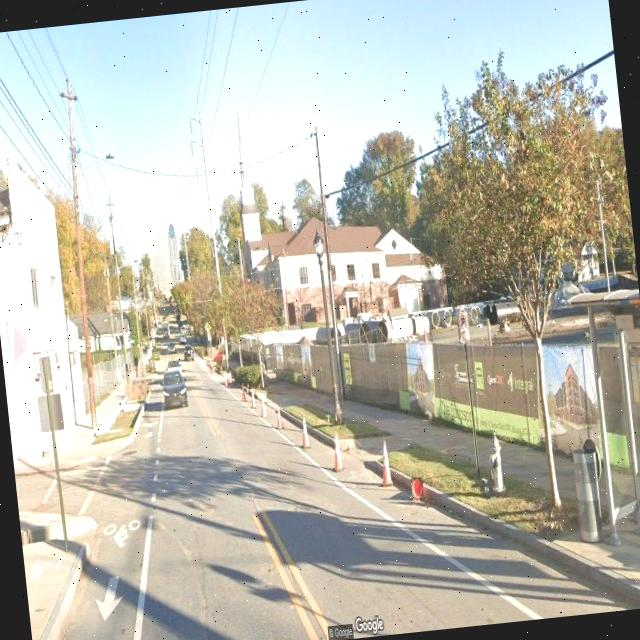shelter: (562, 286, 640, 566)
trash_can: (572, 445, 606, 544)
